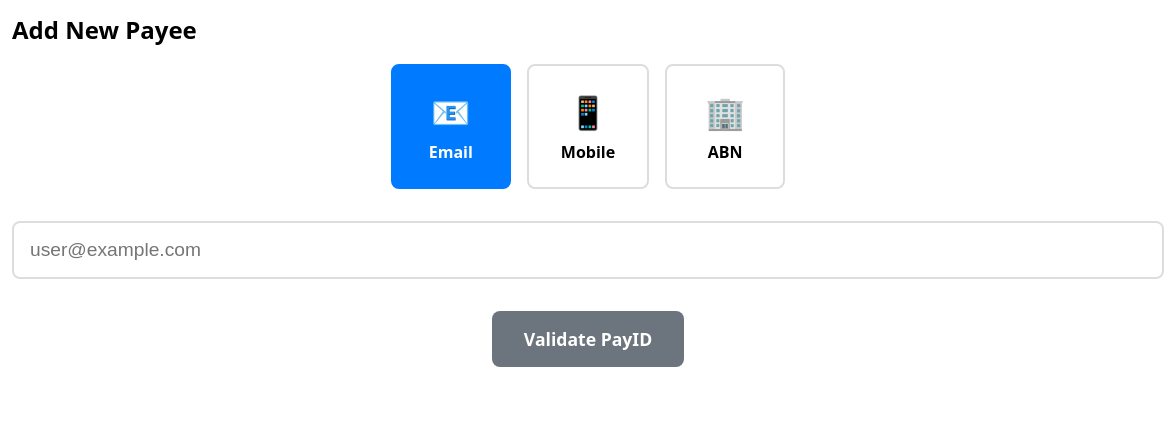
Test case: AddNewPayee › PayID validation › should show error when PayID validation fails
The image size is (1176, 434).
Type "notfound@example.com" into the field with placeholder "user@example.com".
click(588, 250); type("notfound@example.com")  # box [12, 221, 1164, 279]
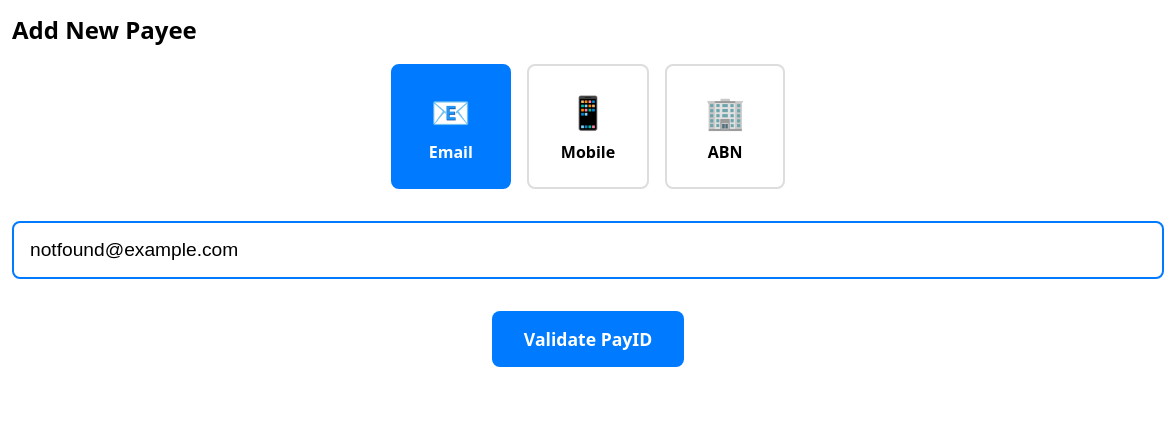
Click the button "Validate PayID".
click(588, 339)  # box [492, 311, 684, 367]
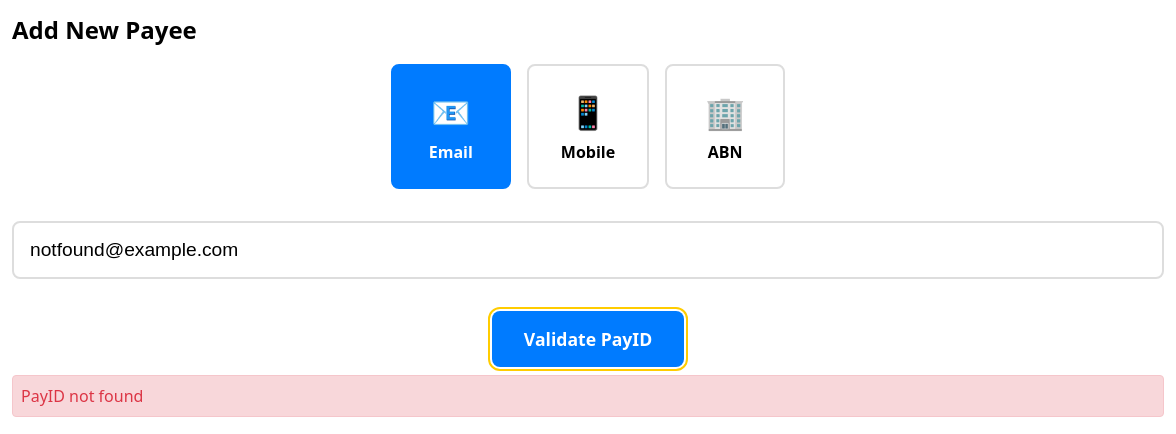
expect the text "PayID not found" is shown: met, box [12, 375, 1164, 417]
